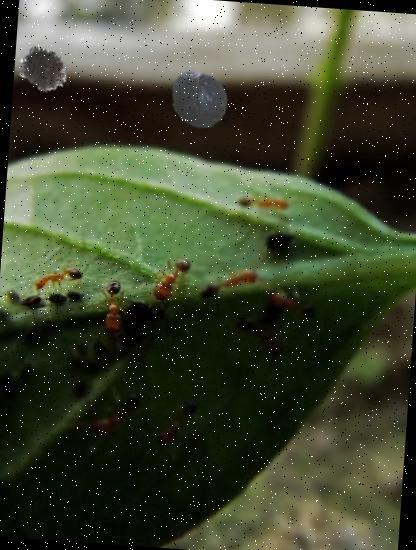Avocado: (164, 67, 230, 133)
Rambutan: (15, 42, 72, 99)
